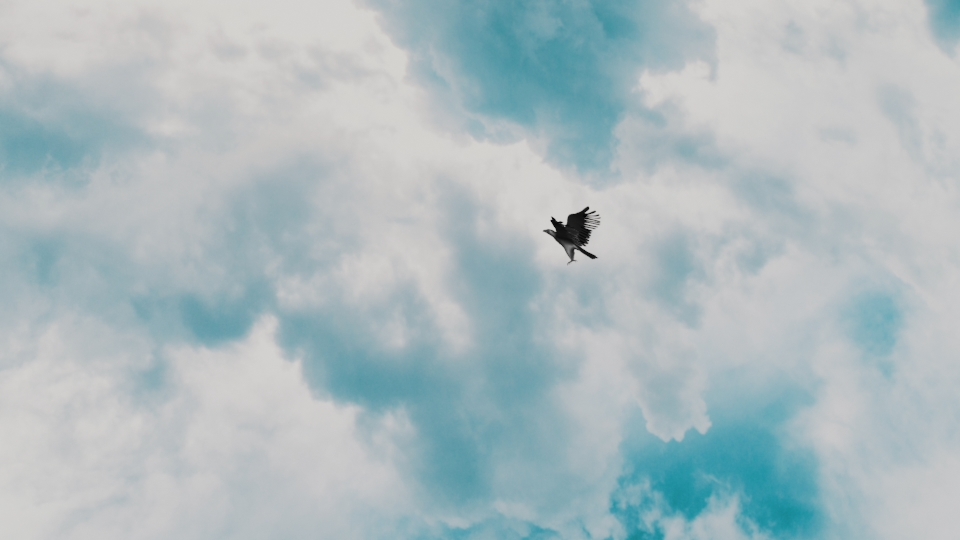bird: (542, 203, 600, 268)
